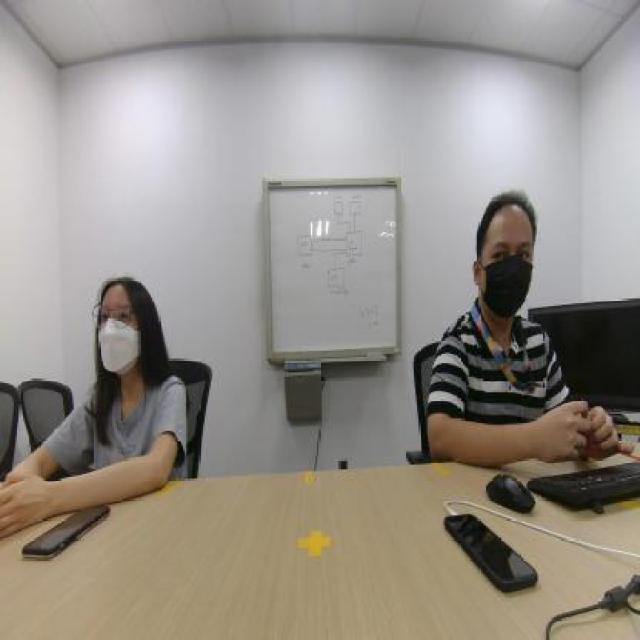Person: (43, 225, 202, 460), (425, 186, 570, 419)
